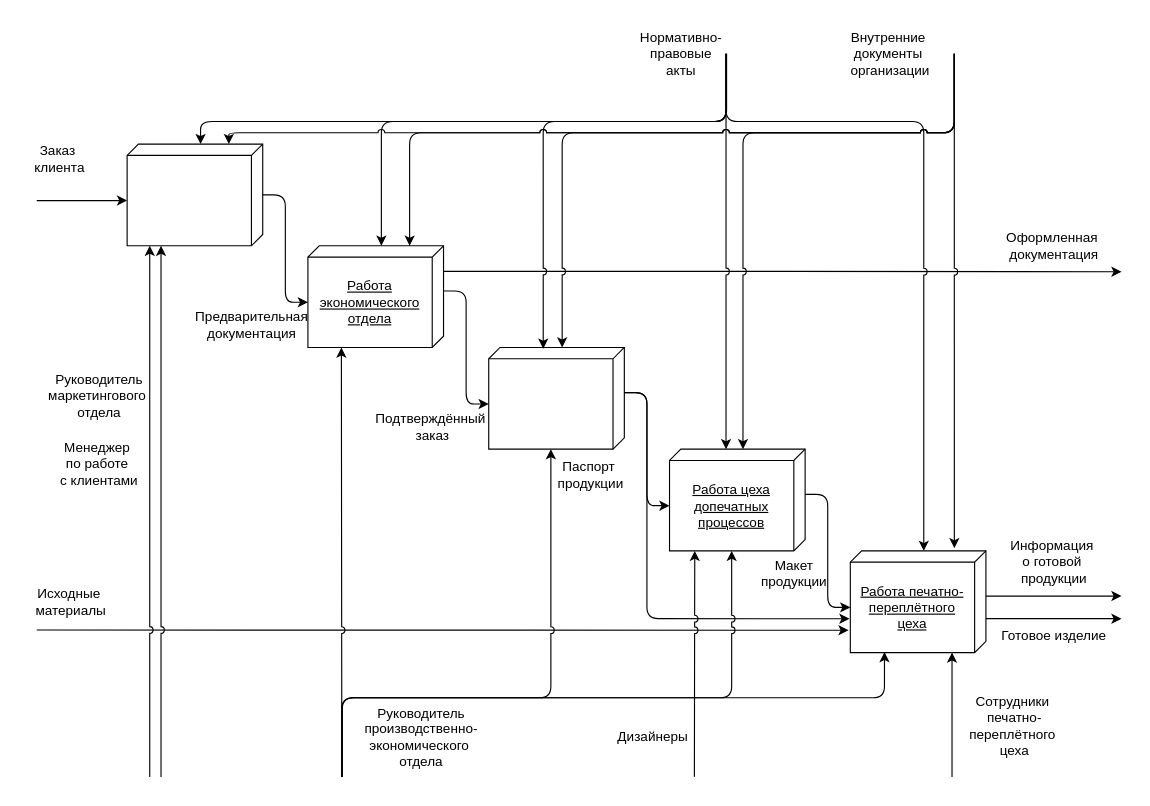
The diagram is 1150 pixels wide and 806 high, and some of its shapes have lost their labels. Here are the shapes that lost their labels. From the top down, the box of each, then its label:
(126, 143, 263, 246): Работа маркетингового отдела
(488, 346, 624, 449): Работа производственного отдела
